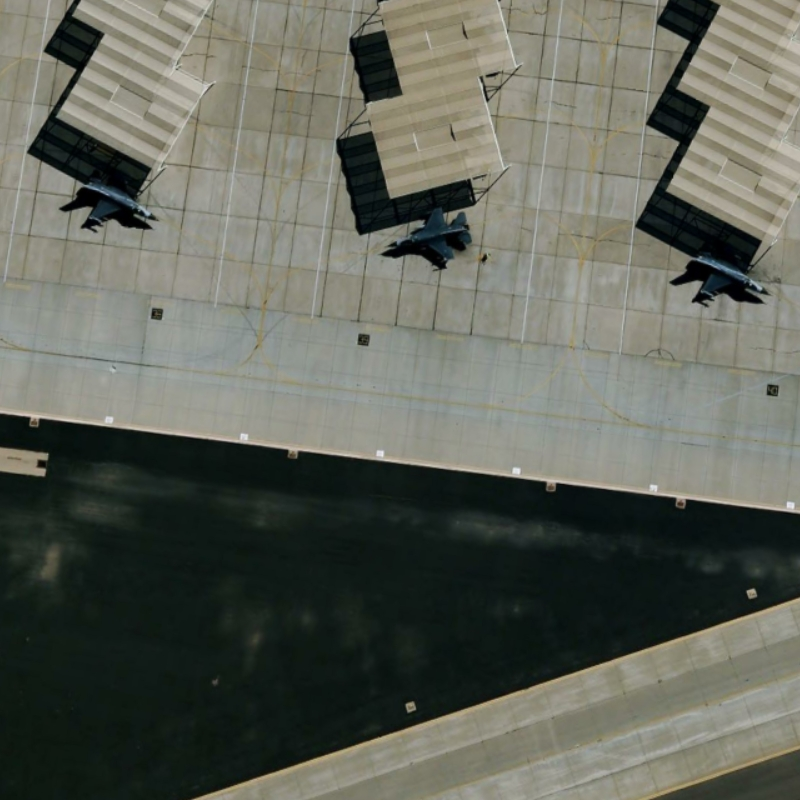A5: (67, 158, 163, 234), (377, 200, 473, 275), (680, 238, 775, 305)
